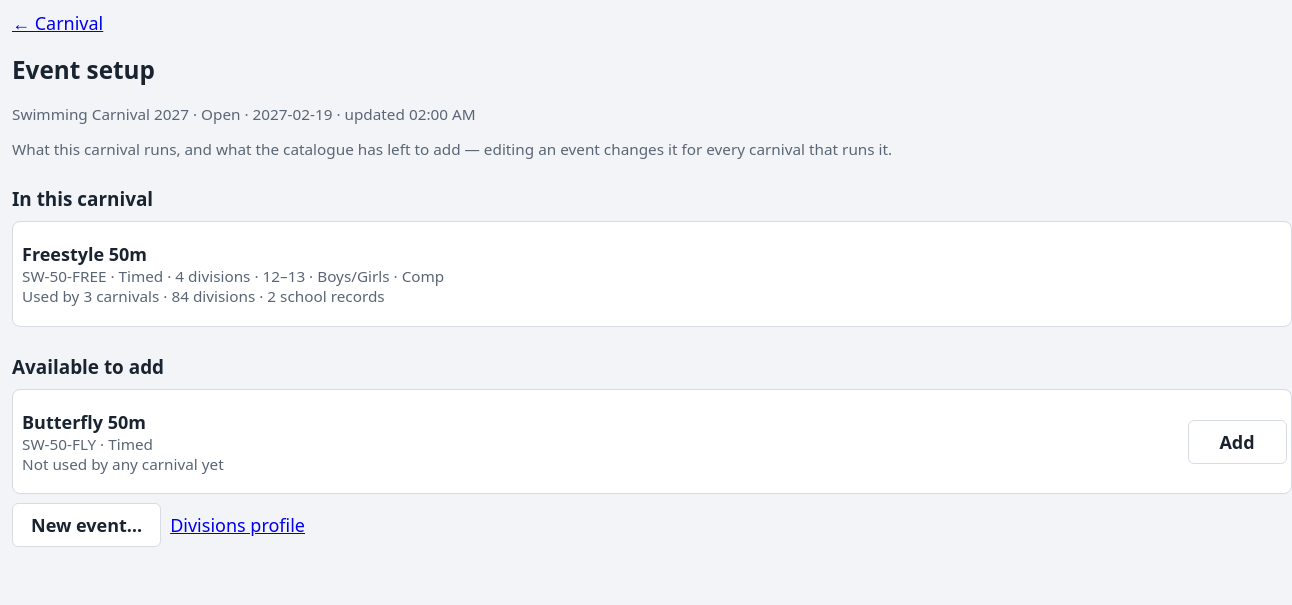
Scenario: EventSetupScreen — Available to add (ADR-0059) › generates every division the profile contests and moves the row
Click the button with aria-label "Add Butterfly 50m": (1237, 442) [1188,420,1286,464]
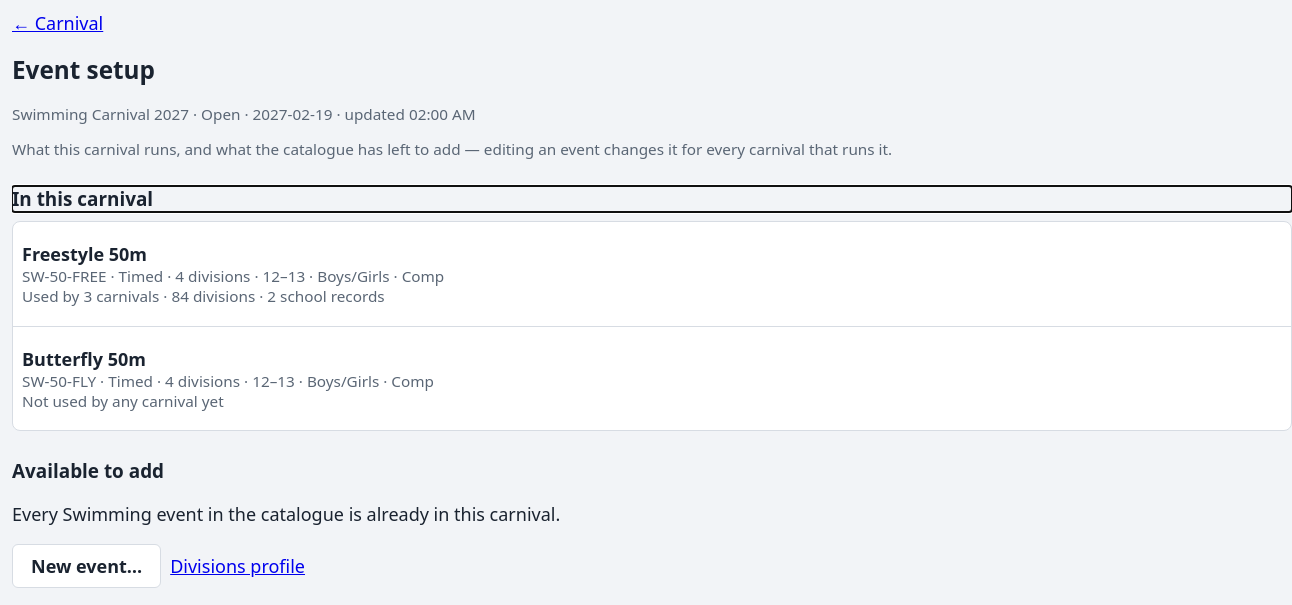
Expected: the text "Butterfly 50m" is shown, [22,347,146,371]
Result: the link "Butterfly 50m" shows "4 divisions" at [22,347,434,411]
